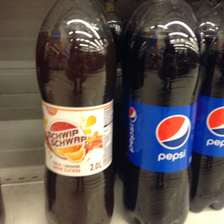soda: (120, 1, 206, 224), (34, 1, 119, 224)
